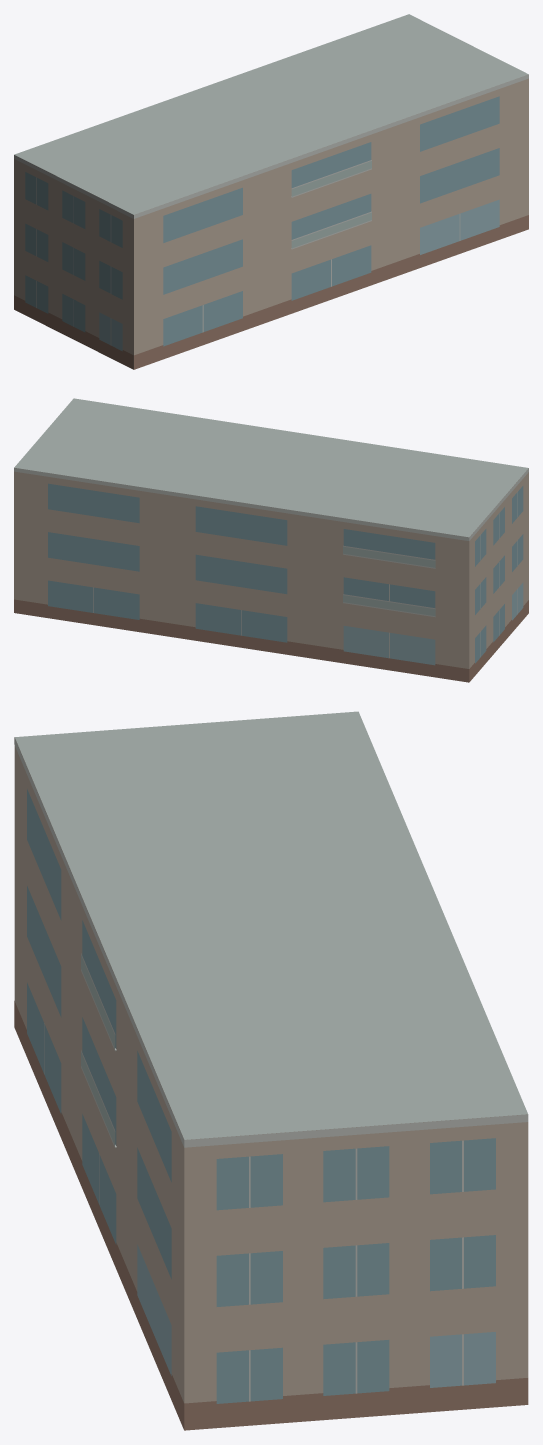
File: survey-upis-32704830.glb
3 views of the same model, one above another, from view 1: azimuth 30°, elevation 25°; view 2: azimuth 150°, elevation 25°; view 3: azimuth 270°, elevation 25° (orthographic). The views are drawn at different scales.
Visible parts, largest first — view 1: survey-upis-32704830.tmp; view 2: survey-upis-32704830.tmp; view 3: survey-upis-32704830.tmp.
Boxes of the visible parts, box(x1,y1,x2,y2) form: survey-upis-32704830.tmp: box(14, 14, 528, 369); survey-upis-32704830.tmp: box(14, 398, 528, 682); survey-upis-32704830.tmp: box(14, 711, 528, 1430).
Bounding box in the file's own units: 28.95 × 9.15 × 14.67.
